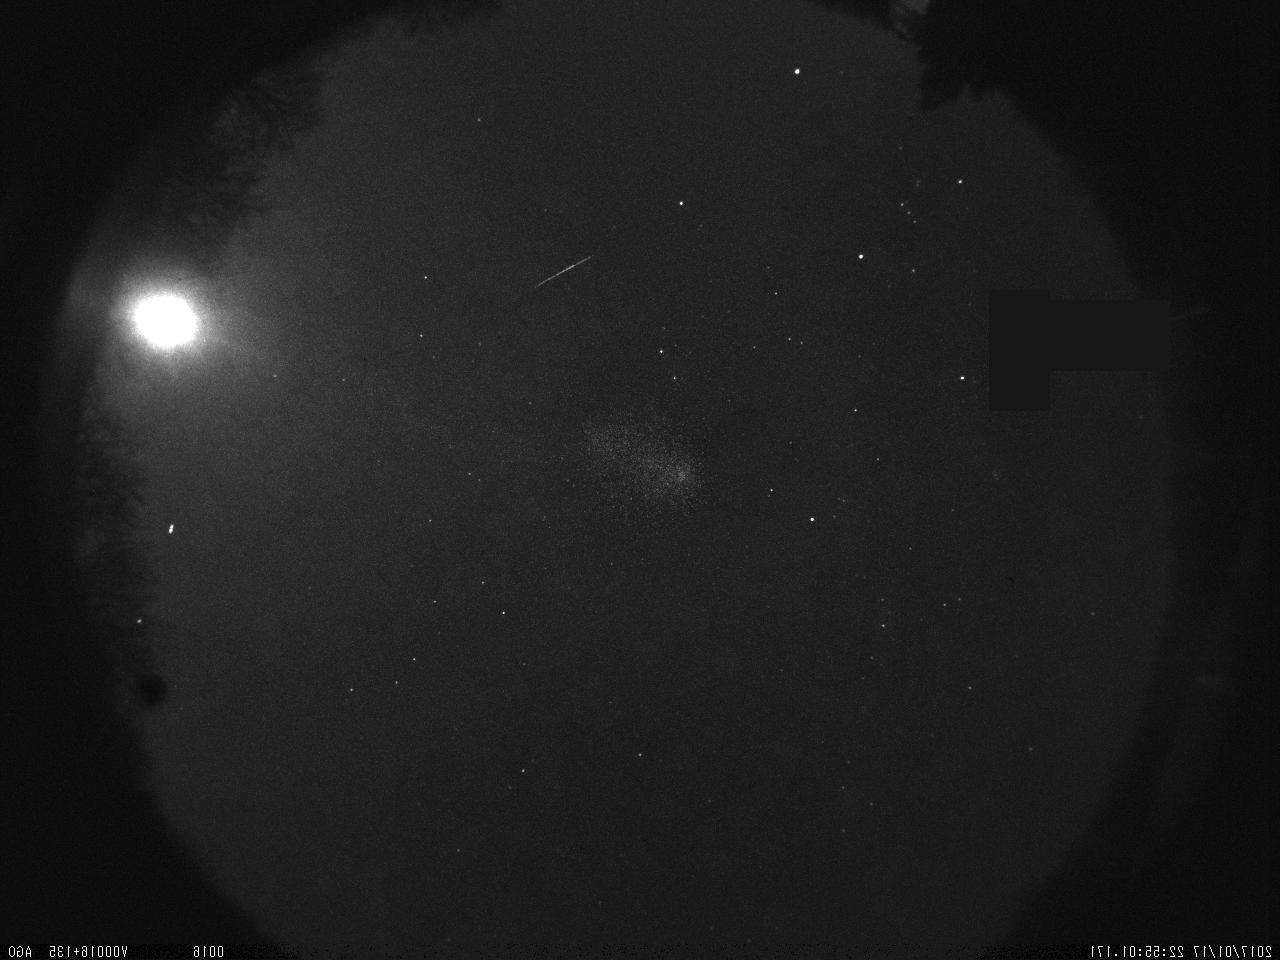meteor: (526, 248, 599, 303)
